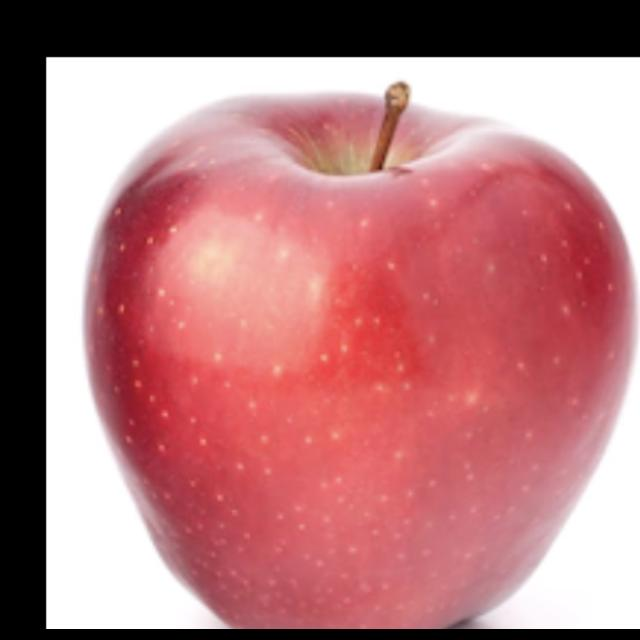Apel Segar: (82, 82, 637, 629)
